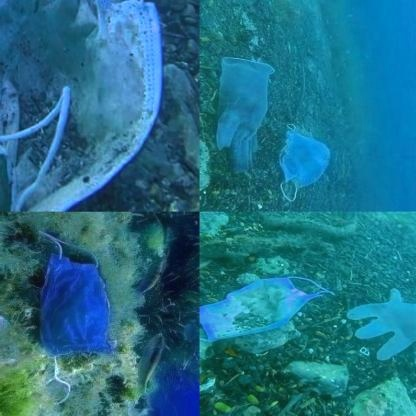Mask: (0, 0, 161, 211), (34, 229, 117, 405), (200, 276, 339, 344), (273, 122, 335, 204)
glove: (215, 58, 273, 172), (348, 286, 416, 362)
